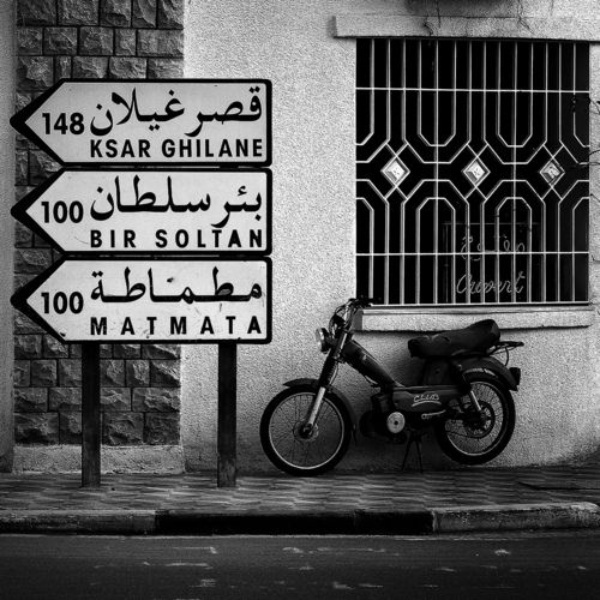text: (193, 83, 208, 140), (209, 83, 224, 140), (225, 83, 240, 140), (241, 83, 256, 140), (97, 85, 112, 137), (113, 85, 128, 137), (129, 85, 144, 137), (145, 85, 160, 137), (161, 85, 176, 137), (97, 173, 112, 223), (113, 173, 128, 223), (129, 173, 144, 223), (145, 173, 160, 223), (161, 173, 176, 223), (177, 173, 192, 223), (193, 173, 208, 223), (225, 182, 240, 230), (241, 182, 256, 230), (97, 265, 112, 308), (113, 265, 128, 308), (129, 265, 144, 308), (145, 265, 160, 308), (161, 265, 176, 308), (177, 265, 192, 308), (193, 265, 208, 308), (209, 265, 224, 308), (225, 265, 240, 308), (241, 265, 256, 308), (257, 182, 267, 230), (49, 287, 64, 316), (65, 287, 80, 316), (177, 85, 185, 137), (465, 236, 480, 263), (481, 236, 496, 263), (497, 236, 512, 263), (49, 111, 64, 137), (65, 111, 80, 137), (49, 199, 64, 225), (65, 199, 80, 225), (465, 272, 480, 298), (481, 272, 496, 298), (497, 272, 512, 298), (513, 272, 528, 298), (513, 236, 527, 263), (97, 315, 112, 338), (113, 315, 128, 338), (129, 315, 144, 338), (145, 315, 160, 338), (161, 315, 176, 338), (177, 315, 192, 338), (193, 315, 208, 338), (209, 315, 224, 338), (225, 315, 240, 338), (241, 315, 256, 338), (88, 265, 96, 308), (257, 83, 263, 140), (97, 139, 112, 159), (113, 139, 128, 159), (129, 139, 144, 159), (161, 139, 176, 159), (177, 139, 192, 159), (193, 139, 208, 159), (209, 139, 224, 159), (225, 139, 240, 159), (241, 139, 256, 159), (161, 229, 176, 249), (177, 229, 192, 249), (193, 229, 208, 249), (209, 229, 224, 249), (225, 229, 240, 249), (241, 229, 256, 249), (97, 229, 112, 249), (113, 229, 128, 249), (39, 287, 48, 316), (257, 265, 263, 308), (91, 173, 96, 223), (219, 182, 224, 230), (39, 199, 48, 225), (92, 85, 96, 137), (257, 139, 267, 159), (129, 229, 139, 249), (417, 393, 432, 406), (257, 315, 265, 338), (41, 111, 48, 137), (89, 315, 96, 338), (145, 139, 153, 159), (209, 173, 212, 223), (89, 139, 96, 159), (81, 111, 86, 137), (459, 272, 464, 298), (154, 229, 160, 249), (257, 229, 263, 249), (81, 287, 85, 316), (81, 199, 85, 225), (433, 393, 441, 406), (91, 229, 96, 249), (413, 393, 416, 406), (463, 236, 464, 263), (529, 272, 530, 298)
